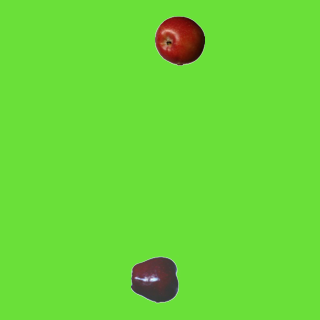Apple Braeburn: (154, 15, 204, 65)
Apple Red Delicious: (130, 254, 180, 304)
